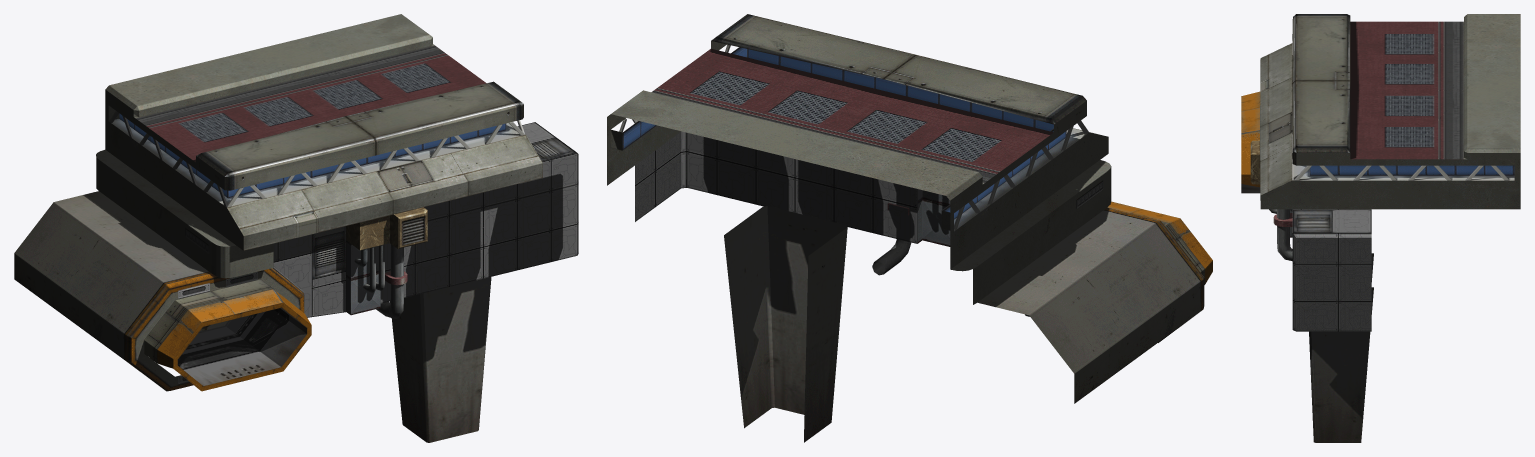
Rendered from ML1_Heavy.FBX.
3 renders of one model, left to right at view 1: azimuth 30°, elevation 25°; view 2: azimuth 150°, elevation 25°; view 3: azimuth 270°, elevation 25°, orthographic. The views are drawn at different scales.
Visible parts, largest first — view 1: ML1_Heavy; view 2: ML1_Heavy; view 3: ML1_Heavy.
Boxes of the visible parts, bbox=[...] form: ML1_Heavy: bbox=[14, 14, 578, 442]; ML1_Heavy: bbox=[607, 14, 1212, 442]; ML1_Heavy: bbox=[1241, 14, 1520, 442].
Size of the model in its own units: 30.47 by 21.08 by 17.28.
1 material, 1 textured.
